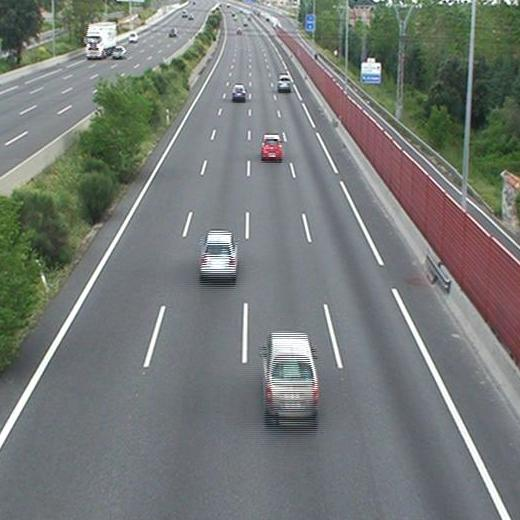car: (263, 333, 319, 419), (200, 231, 236, 276), (261, 135, 282, 159), (277, 75, 290, 90), (232, 85, 245, 99)
